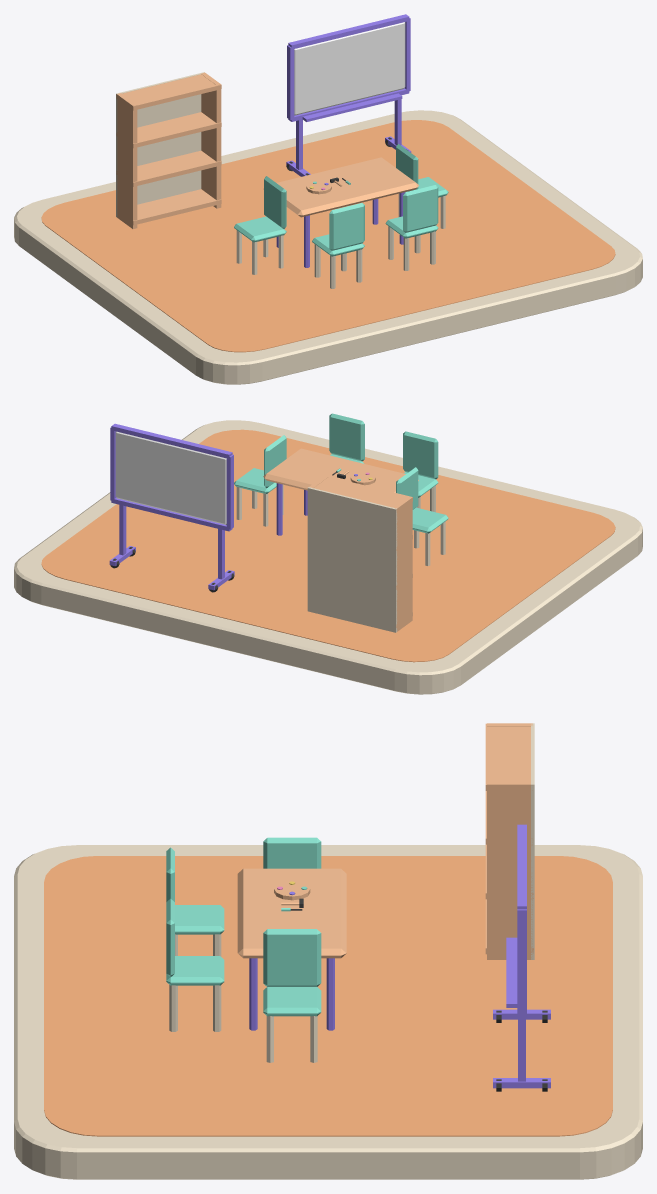
The picture shows the model from 3 angles, top to bottom: view 1: azimuth 30°, elevation 25°; view 2: azimuth 150°, elevation 25°; view 3: azimuth 270°, elevation 25°; orthographic projection. The views are drawn at different scales.
Visible parts, largest first — view 1: COM-02 Floor Surface, COM-01 Rounded Base Direct, Writing surface, Rounded table top, Back, Side, Side.001, Shelf.003, Shelf.001, Shelf.002, Shelf, Backrest.002 (+7 smaller); view 2: COM-02 Floor Surface, COM-01 Rounded Base Direct, Back, Writing surface, Rounded table top, Side, Backrest.003, Backrest.002, Shelf.003, Frame rail.001, Frame rail, Backrest.001 (+5 smaller); view 3: COM-02 Floor Surface, COM-01 Rounded Base Direct, Rounded table top, Side.001, Backrest.001, Shelf.003, Backrest, Seat.001, Seat.003, Seat.002, Frame upright.001, Back (+5 smaller).
Boxes of the visible parts, x1,y1,x2,y2 form: COM-02 Floor Surface: (41, 120, 615, 352); COM-01 Rounded Base Direct: (14, 110, 642, 384); Writing surface: (294, 22, 405, 115); Rounded table top: (263, 157, 418, 217); Back: (116, 72, 204, 217); Side: (117, 93, 137, 228); Side.001: (201, 72, 221, 208); Shelf.003: (116, 74, 221, 110); Shelf.001: (116, 150, 221, 186); Shelf.002: (116, 112, 221, 148); Shelf: (117, 189, 221, 225); Backrest.002: (329, 203, 364, 250); COM-02 Floor Surface: (41, 429, 615, 662); COM-01 Rounded Base Direct: (14, 420, 642, 694); Back: (307, 487, 397, 632); Writing surface: (115, 431, 226, 524); Rounded table top: (263, 448, 418, 492); Side: (393, 496, 412, 631); Backrest.003: (329, 413, 364, 461); Backrest.002: (403, 431, 438, 479); Shelf.003: (314, 475, 412, 512); Frame rail.001: (111, 423, 232, 458); Frame rail: (111, 497, 232, 531); Backrest.001: (264, 435, 286, 488); COM-02 Floor Surface: (44, 856, 612, 1136); COM-01 Rounded Base Direct: (14, 845, 642, 1179); Rounded table top: (237, 868, 346, 958); Side.001: (487, 781, 532, 959); Backrest.001: (263, 929, 321, 986); Shelf.003: (485, 723, 532, 790); Backrest: (263, 837, 321, 868); Seat.001: (263, 987, 321, 1016); Seat.003: (166, 956, 224, 985); Seat.002: (175, 905, 224, 934); Frame upright.001: (517, 909, 526, 1013); Back: (531, 723, 534, 959).
Size of the model in its own units: 6 by 2.04 by 5.2.
1 material, 1 textured.
